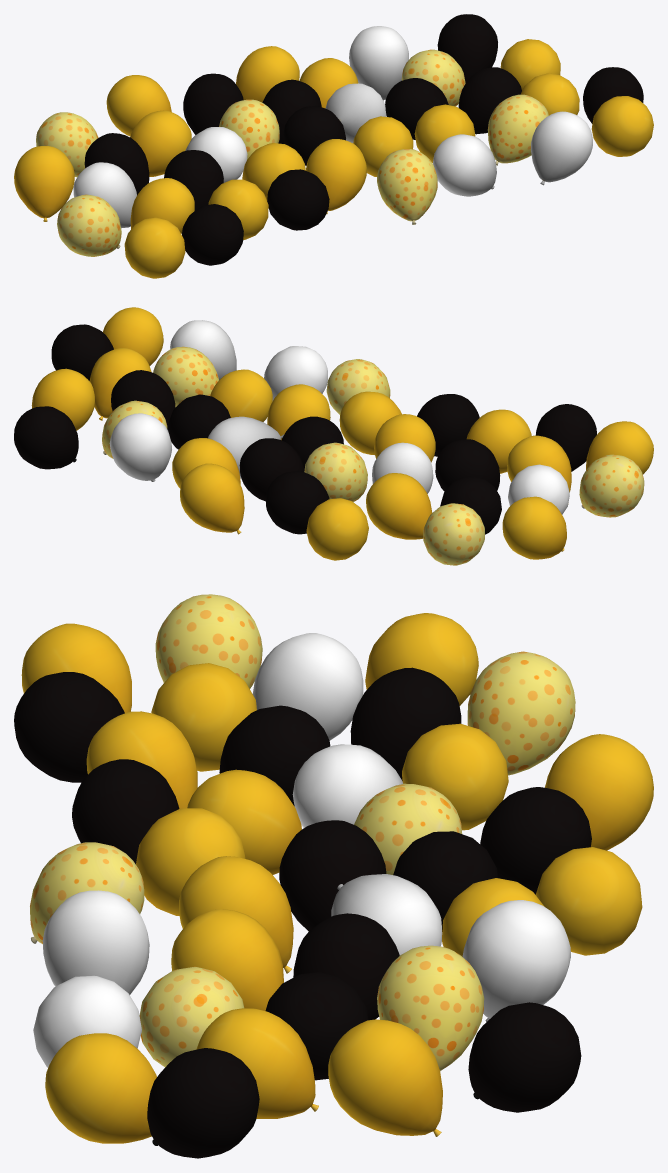
The model's file is PartyBalloons03_GR9_1.FBX.
3 renders of one model, top to bottom at view 1: azimuth 30°, elevation 25°; view 2: azimuth 150°, elevation 25°; view 3: azimuth 270°, elevation 25°, orthographic. The views are drawn at different scales.
Visible parts, largest first — view 1: PartyBalloons03_GR9_1; view 2: PartyBalloons03_GR9_1; view 3: PartyBalloons03_GR9_1.
Boxes of the visible parts, left/top/right/bottom form: PartyBalloons03_GR9_1: left=14, top=14, right=653, bottom=278; PartyBalloons03_GR9_1: left=14, top=307, right=653, bottom=565; PartyBalloons03_GR9_1: left=14, top=594, right=653, bottom=1158.
Size of what is drawn, in the model's own units: 3.89 by 0.4683 by 2.12.
